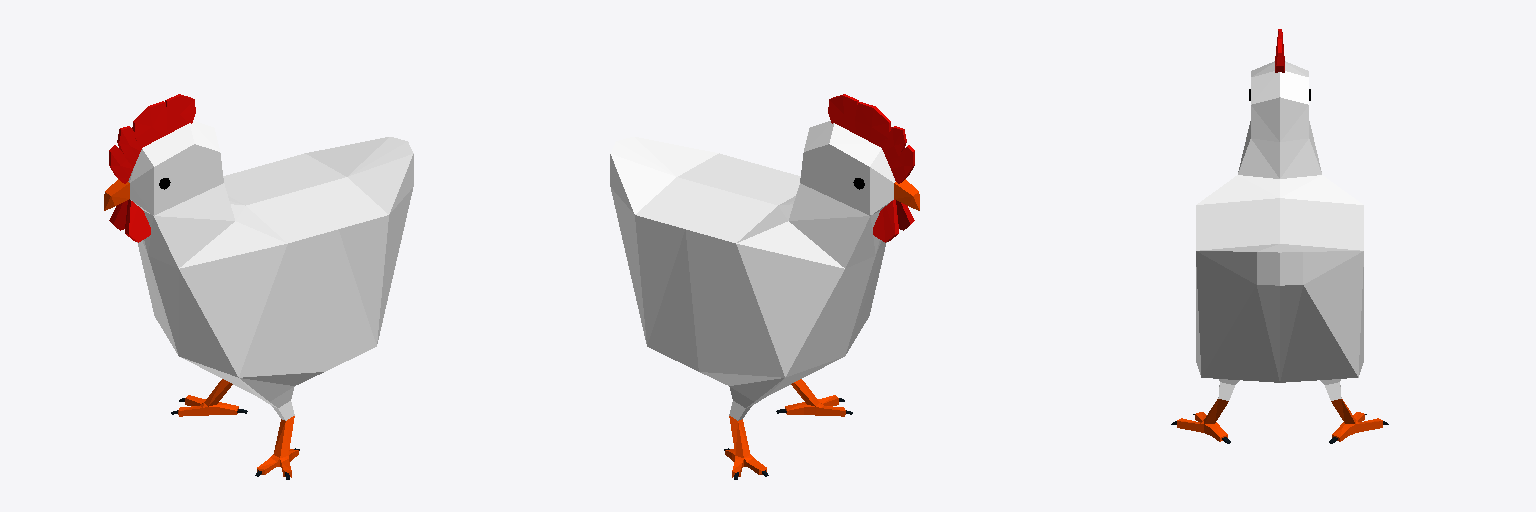
Rendered from chicken.obj.
The picture shows the model from 3 angles: view 1: azimuth 30°, elevation 25°; view 2: azimuth 150°, elevation 25°; view 3: azimuth 270°, elevation 25°; orthographic projection.
Parts seen in each view (by area): view 1: Cube.035_Cube.034; view 2: Cube.035_Cube.034; view 3: Cube.035_Cube.034.
Part boxes in pixels (left/top/right/bottom): Cube.035_Cube.034: left=104, top=94, right=413, bottom=479; Cube.035_Cube.034: left=610, top=94, right=919, bottom=479; Cube.035_Cube.034: left=1171, top=29, right=1388, bottom=443.
Size of the model in its own units: 167 by 189 by 103.